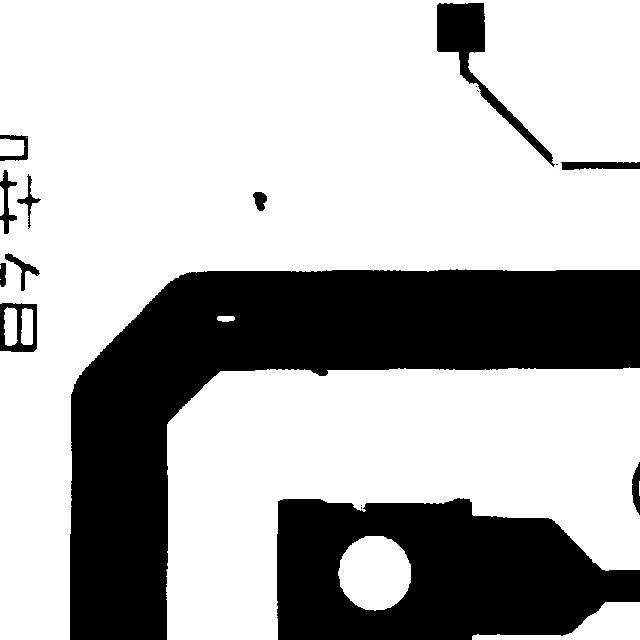copper: (243, 182, 276, 220)
mousebite: (342, 492, 375, 521), (459, 73, 490, 103)
open: (540, 140, 571, 182)
pin-hole: (207, 306, 244, 331)
spur: (295, 353, 337, 385)
